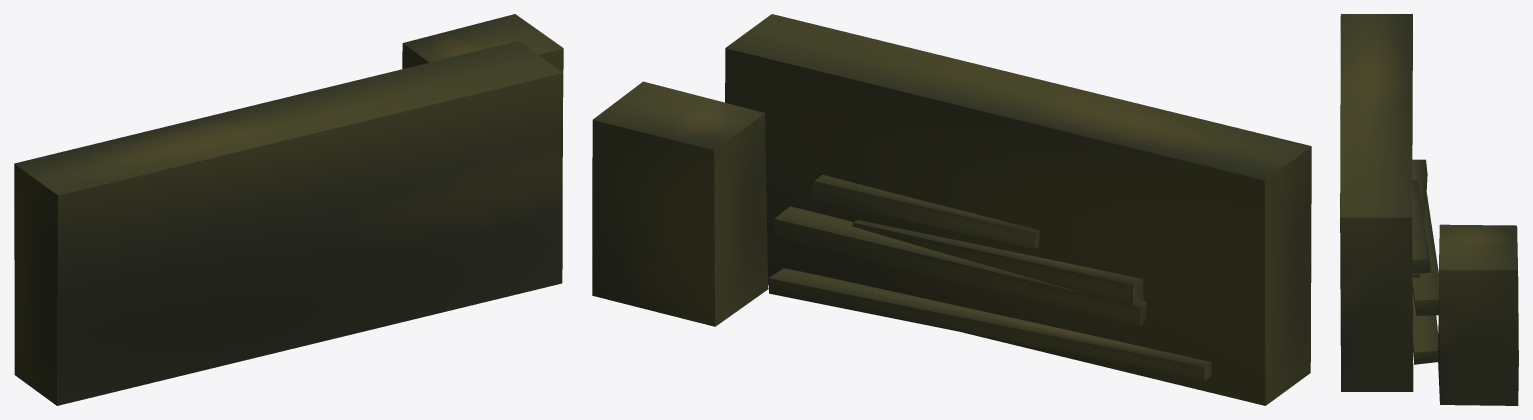
File: planet_cliff_v2.glb
The picture shows the model from 3 angles, left to right: view 1: azimuth 30°, elevation 25°; view 2: azimuth 150°, elevation 25°; view 3: azimuth 270°, elevation 25°; orthographic projection. The views are drawn at different scales.
Visible parts, largest first — view 1: CliffWall, Butte; view 2: CliffWall, Butte, Strata_0, Strata_1, Strata_2, Strata_3; view 3: CliffWall, Butte, Strata_1, Strata_0, Strata_3, Strata_2.
Part boxes in pixels (<box>): CliffWall: <box>14,41,562,405</box>; Butte: <box>402,14,563,97</box>; CliffWall: <box>725,14,1311,405</box>; Butte: <box>592,81,768,326</box>; Strata_0: <box>768,268,1211,380</box>; Strata_1: <box>773,206,1146,326</box>; Strata_2: <box>852,220,1143,305</box>; Strata_3: <box>810,174,1039,248</box>; CliffWall: <box>1340,14,1413,391</box>; Butte: <box>1438,224,1518,405</box>; Strata_1: <box>1412,192,1438,315</box>; Strata_0: <box>1412,293,1438,364</box>; Strata_3: <box>1412,180,1431,273</box>; Strata_2: <box>1412,159,1427,292</box>.
Bounding box in the file's own units: 106 × 38 × 35.28.
1 material, 1 textured.
